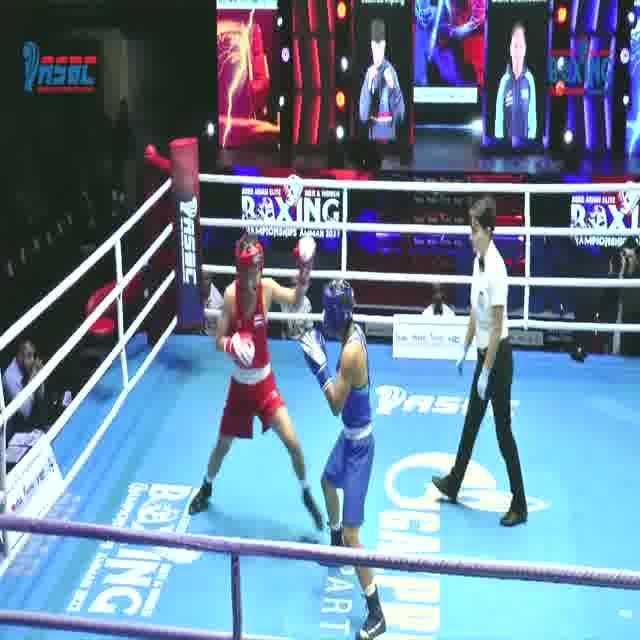blue-player: (298, 276, 392, 640)
red-player: (189, 230, 326, 532)
referee: (426, 195, 531, 531)
